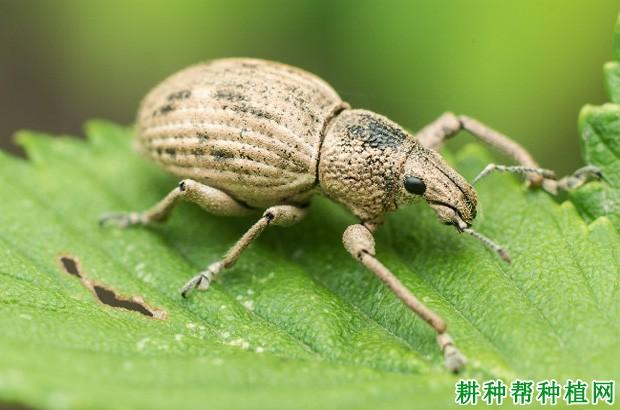Curculionidae: (96, 56, 614, 377)
